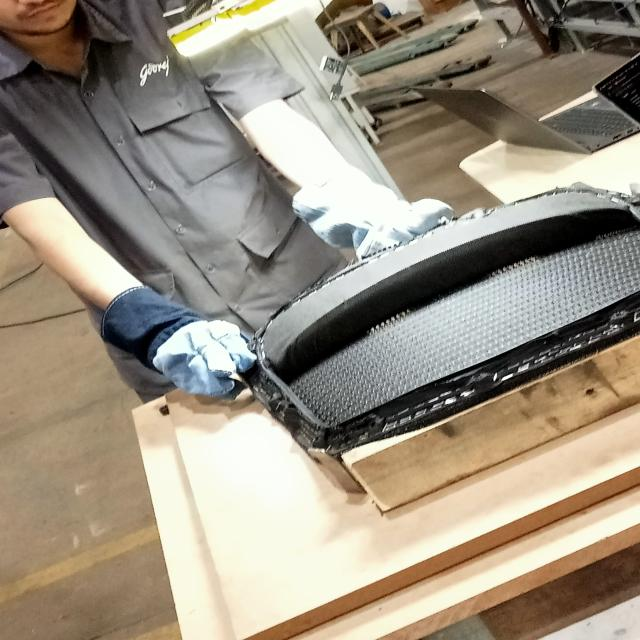Gloves-Detection: (90, 293, 251, 401)
